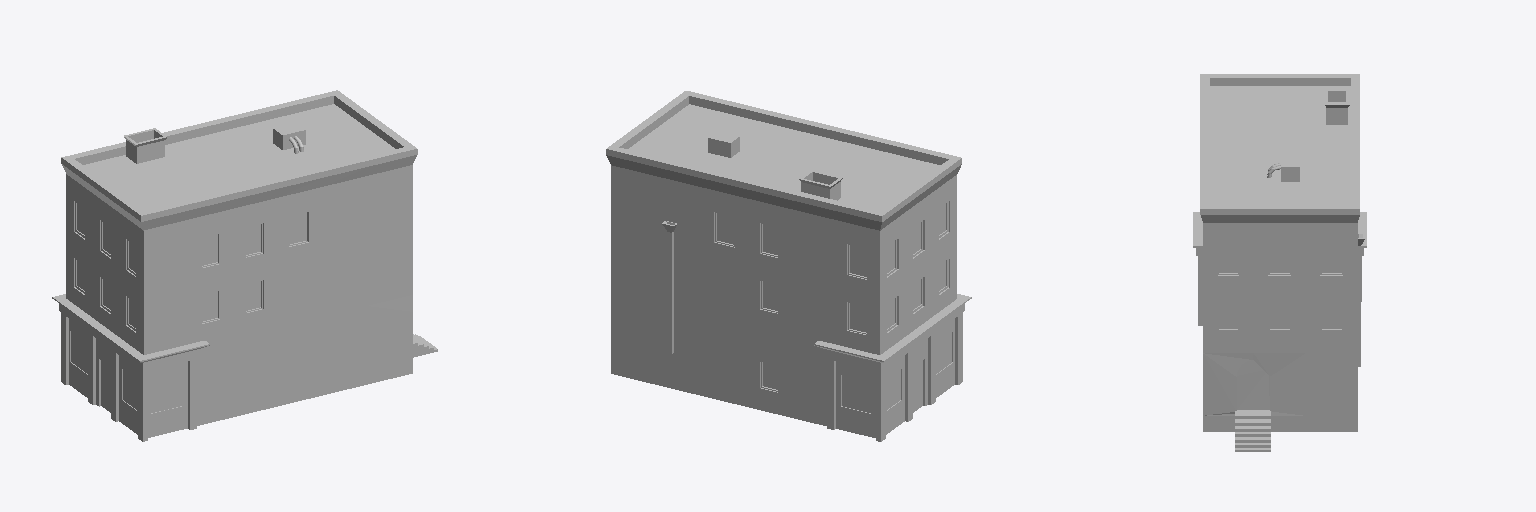
The model's file is building.obj.
3 renders of one model, left to right at view 1: azimuth 30°, elevation 25°; view 2: azimuth 150°, elevation 25°; view 3: azimuth 270°, elevation 25°, orthographic.
Parts seen in each view (by area): view 1: Cube, Cube.001; view 2: Cube, Cube.001; view 3: Cube, Cube.001.
Part boxes in pixels (x1,y1,x2,y2): Cube: (52, 90, 437, 441); Cube.001: (71, 203, 306, 413); Cube: (606, 91, 971, 441); Cube.001: (717, 203, 951, 413); Cube: (1193, 74, 1366, 451); Cube.001: (1219, 245, 1341, 328).
Bounding box in the file's own units: 7.65 × 5.42 × 3.62.